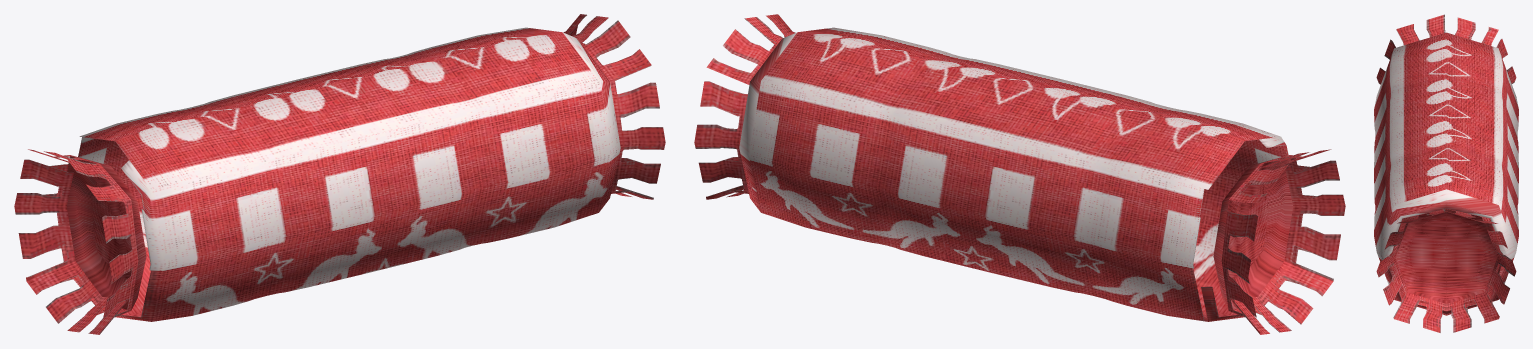
Rendered from Festive Towel Hand.fbx.
3 views of the same model, side by side, from view 1: azimuth 30°, elevation 25°; view 2: azimuth 150°, elevation 25°; view 3: azimuth 270°, elevation 25° (orthographic). The views are drawn at different scales.
Parts seen in each view (by area): view 1: DeedPrefab; view 2: DeedPrefab; view 3: DeedPrefab.
Boxes of the visible parts, x1,y1,x2,y2 form: DeedPrefab: [14, 14, 665, 334]; DeedPrefab: [694, 14, 1345, 334]; DeedPrefab: [1374, 14, 1518, 332].
Size of the model in its own units: 1.87 by 0.5894 by 0.5894.
